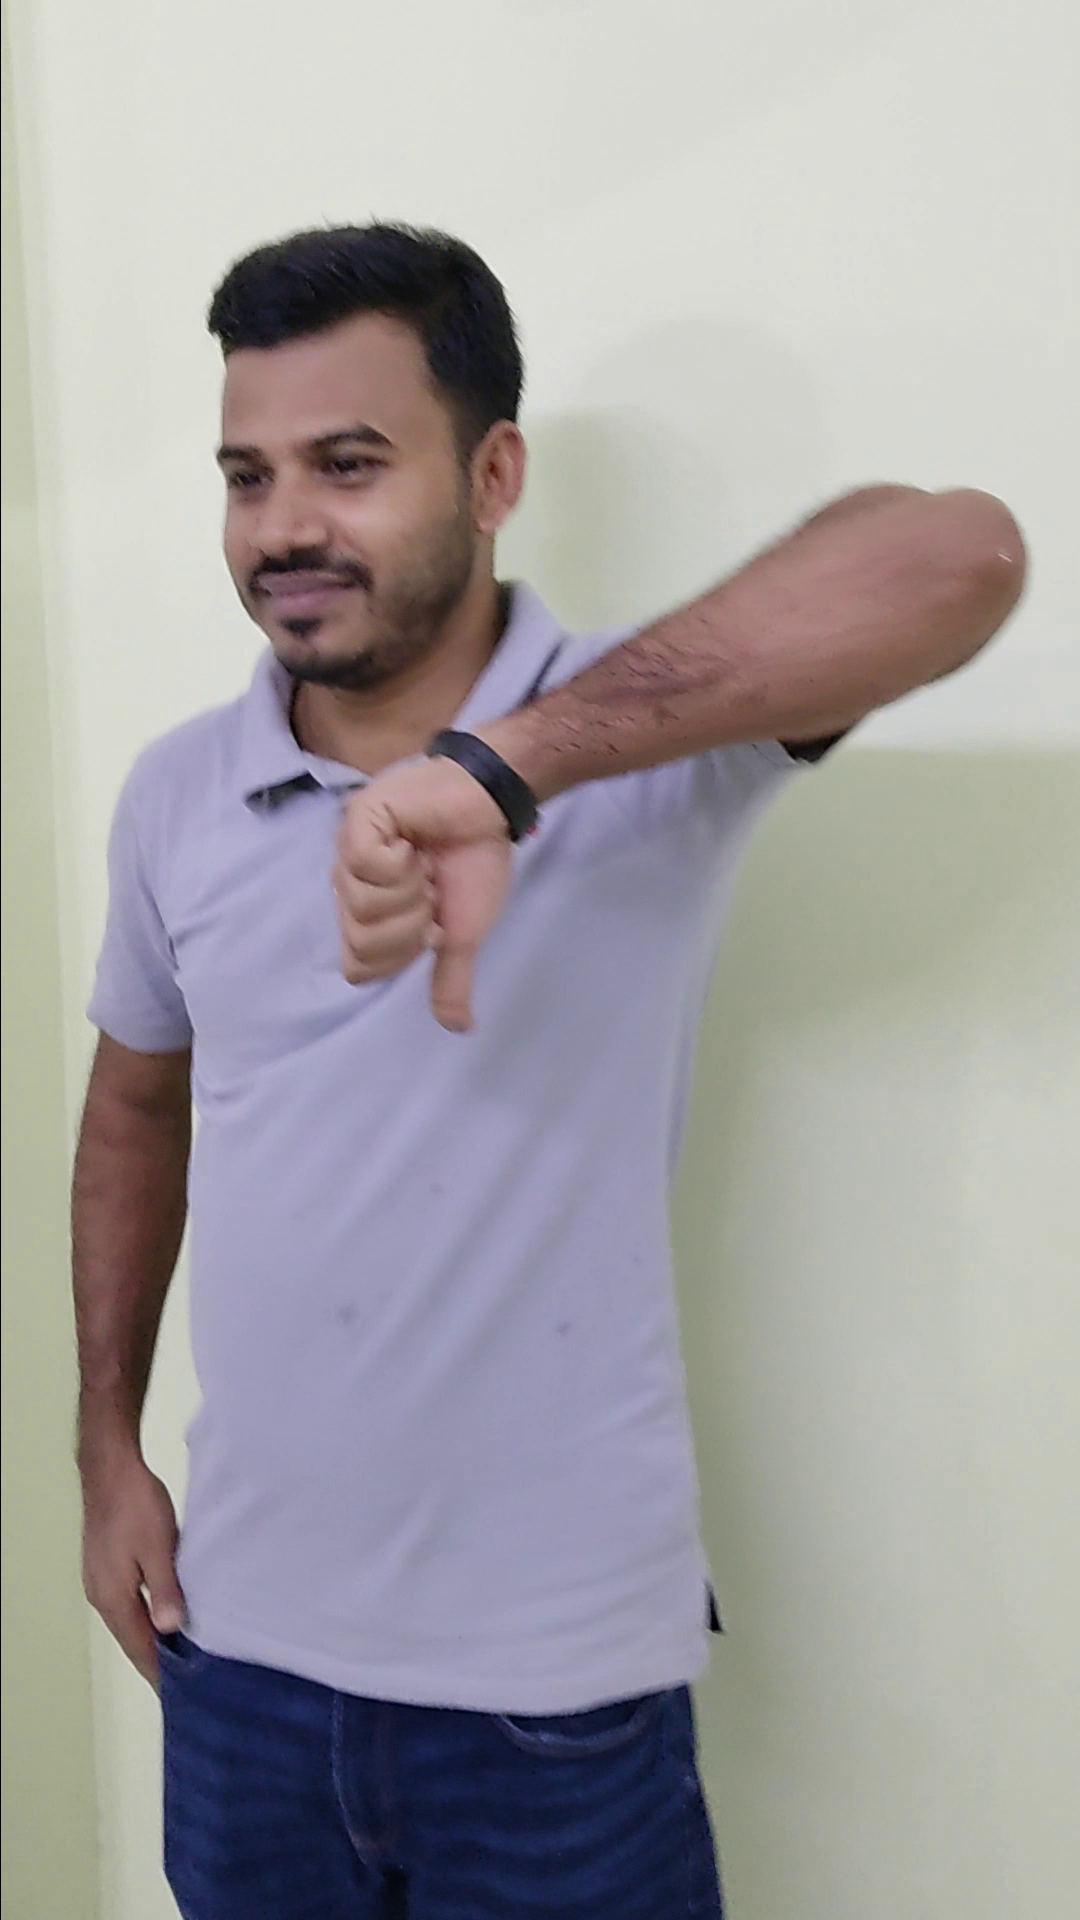Dislike: (305, 720, 534, 1048)
None: (53, 1412, 200, 1706)
